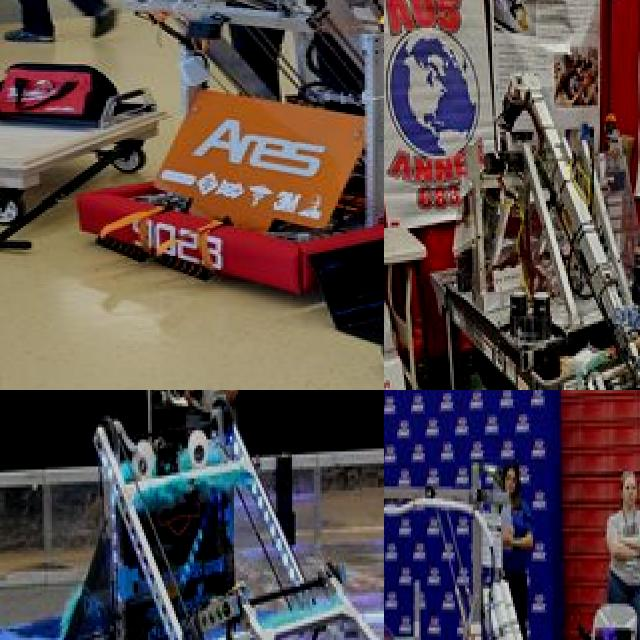FRC-Robots: (0, 390, 384, 640), (48, 0, 384, 270), (417, 43, 640, 390), (384, 409, 606, 640)
